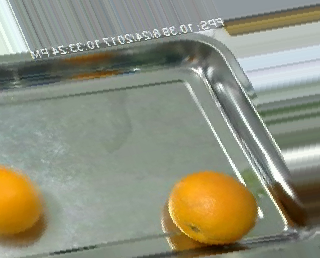Orange: (168, 171, 258, 245)
